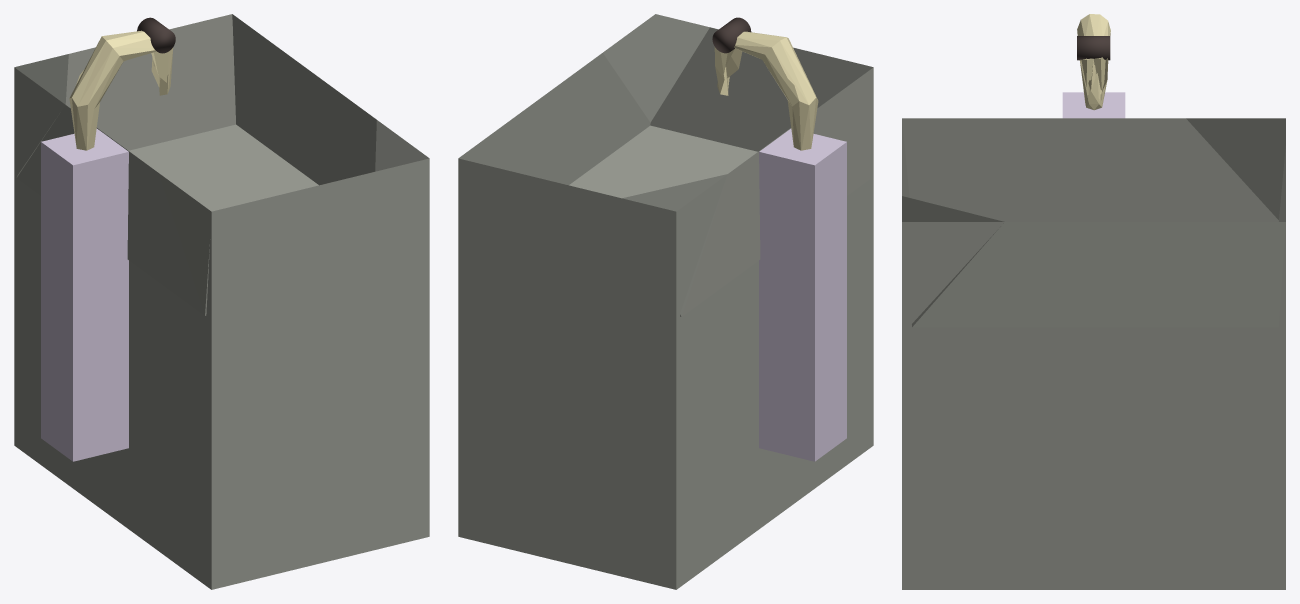
Rendered from vaske.fbx.
3 renders of one model, left to right at view 1: azimuth 30°, elevation 25°; view 2: azimuth 150°, elevation 25°; view 3: azimuth 270°, elevation 25°, orthographic. The views are drawn at different scales.
Parts seen in each view (by area): view 1: Cube, Cube.001, Icosphere, Cylinder; view 2: Cube, Cube.001, Icosphere, Cylinder; view 3: Cube, Icosphere, Cube.001, Cylinder.
Part boxes in pixels (x1,y1,x2,y2): Cube: (14, 14, 429, 589); Cube.001: (41, 128, 128, 461); Icosphere: (69, 30, 173, 150); Cylinder: (137, 17, 175, 53); Cube: (458, 14, 873, 589); Cube.001: (759, 128, 846, 461); Icosphere: (714, 31, 818, 150); Cylinder: (712, 17, 751, 53); Cube: (902, 118, 1285, 589); Icosphere: (1077, 14, 1110, 110); Cube.001: (1062, 92, 1125, 118); Cylinder: (1077, 36, 1110, 60).
Size of the model in its own units: 383 by 642 by 476.
